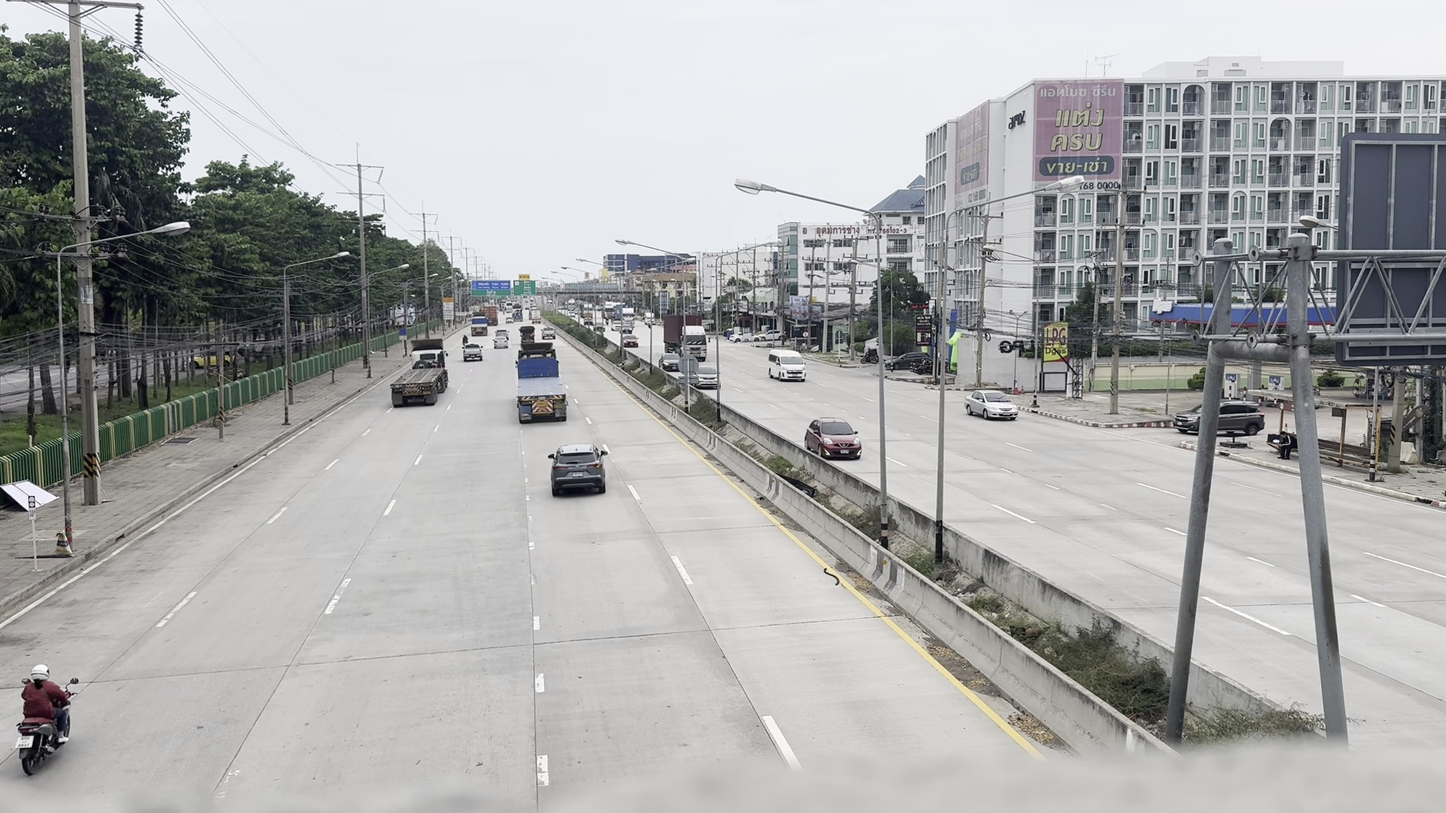car: (1170, 401, 1262, 441), (549, 445, 610, 497), (391, 360, 447, 408), (804, 417, 863, 460), (0, 480, 58, 516), (965, 389, 1019, 422), (1217, 402, 1263, 440), (766, 350, 808, 381), (407, 351, 446, 380), (461, 333, 488, 363), (461, 339, 485, 363)
motorbike: (16, 653, 72, 778), (14, 682, 73, 778)
truck: (514, 354, 566, 423)
